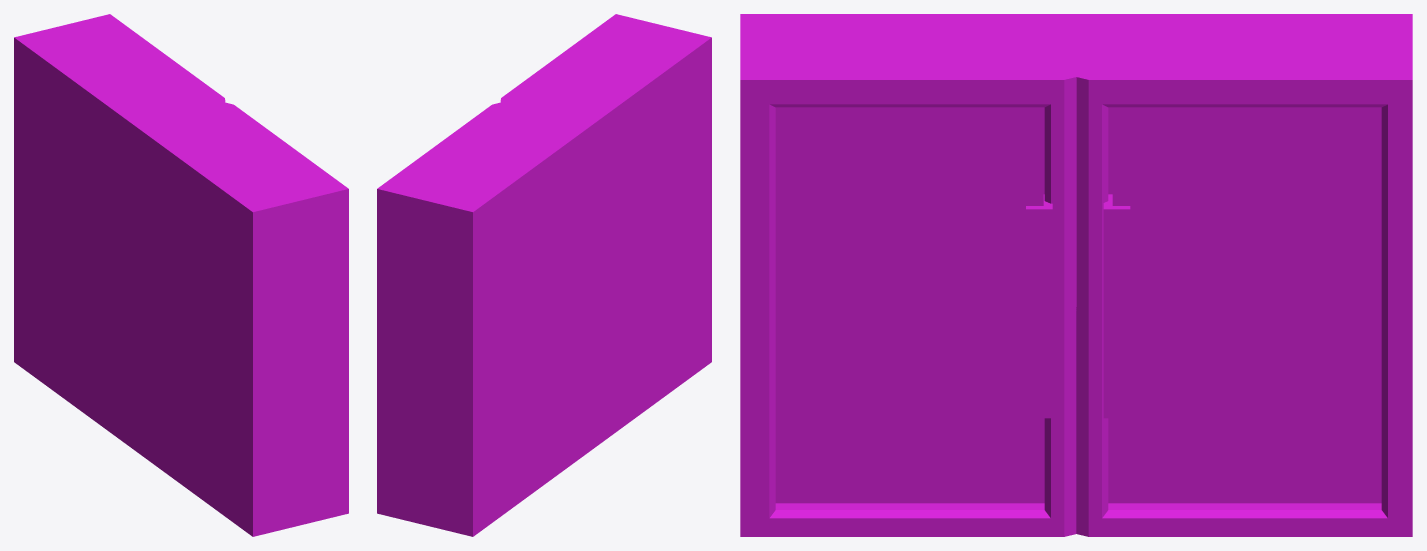
Rendered from SM_Freezer02.fbx.
3 views of the same model, side by side, from view 1: azimuth 30°, elevation 25°; view 2: azimuth 150°, elevation 25°; view 3: azimuth 270°, elevation 25° (orthographic). The views are drawn at different scales.
Parts seen in each view (by area): view 1: SM_Freezer_02; view 2: SM_Freezer_02; view 3: SM_Freezer_02.
Boxes of the visible parts, box(x1,y1,x2,y2) form: SM_Freezer_02: box(14, 14, 348, 536); SM_Freezer_02: box(377, 14, 711, 536); SM_Freezer_02: box(740, 14, 1412, 536).
Size of the model in its own units: 50.42 by 150 by 200.
